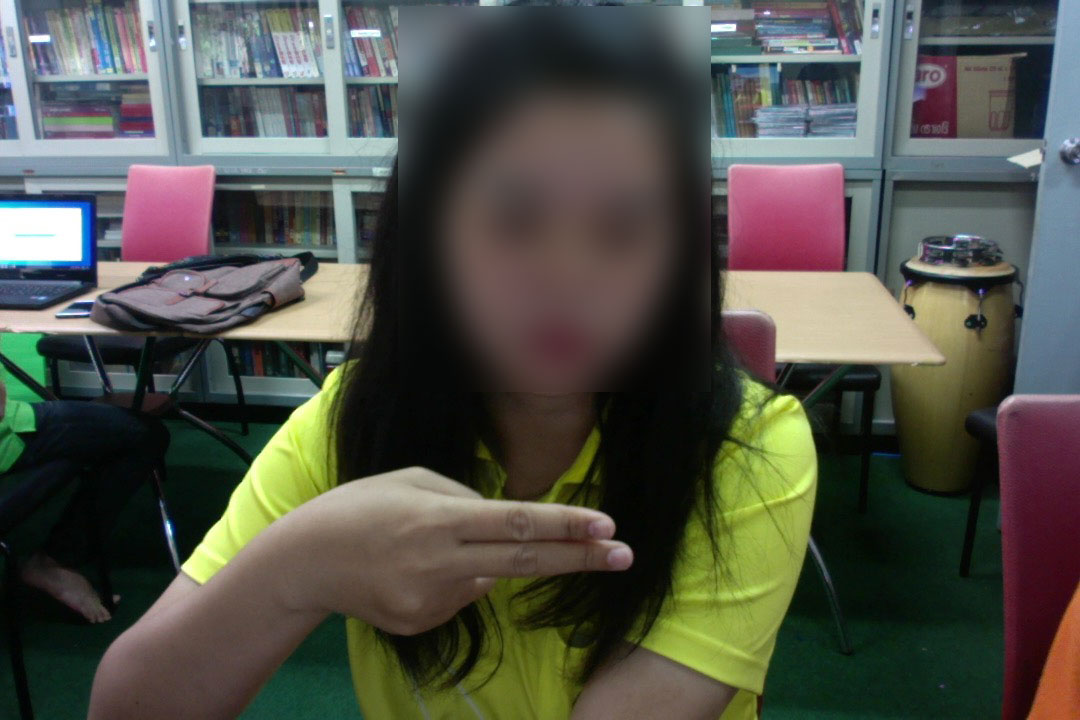hor: (258, 460, 638, 640)
